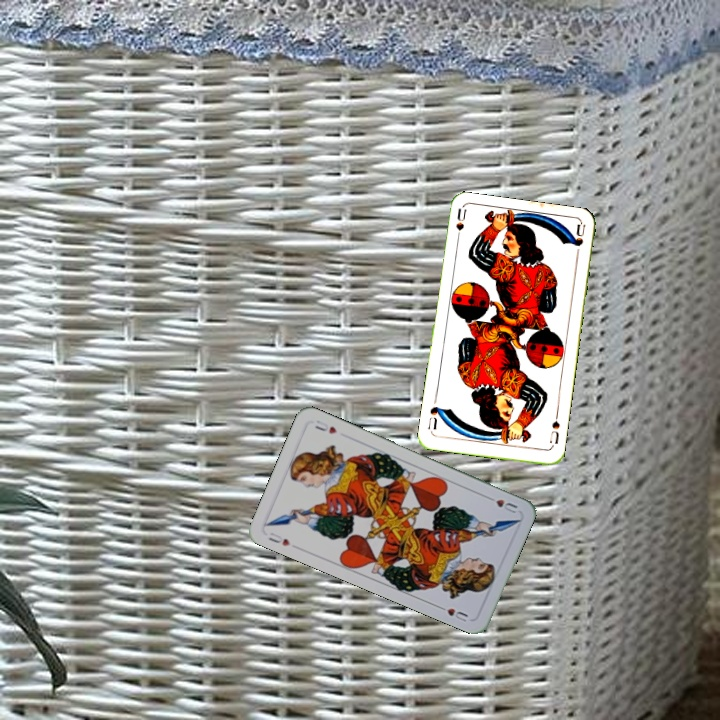HU: (482, 491, 520, 516), (264, 528, 293, 549)
SU: (545, 409, 562, 450), (452, 206, 468, 247)
